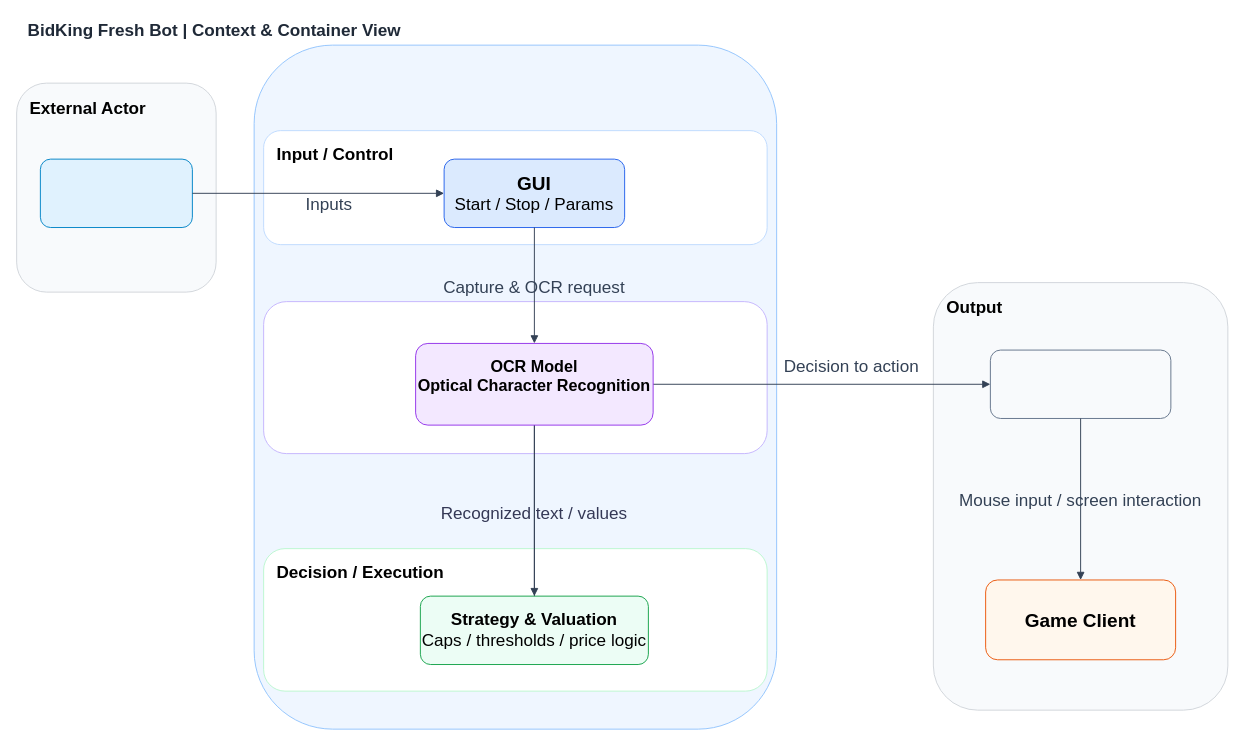
The diagram is 1245 pixels wide and 746 high, and some of its shapes have lost their labels. Here are the shapes that lost their labels. From the top down, the box of each, then its label:
(39, 158, 192, 228): Operator User / QA / Ops
(263, 301, 767, 454): Perception / Recognition
(253, 44, 777, 729): BidKing Fresh Bot Runtime
(989, 349, 1171, 418): Mouse Controller
